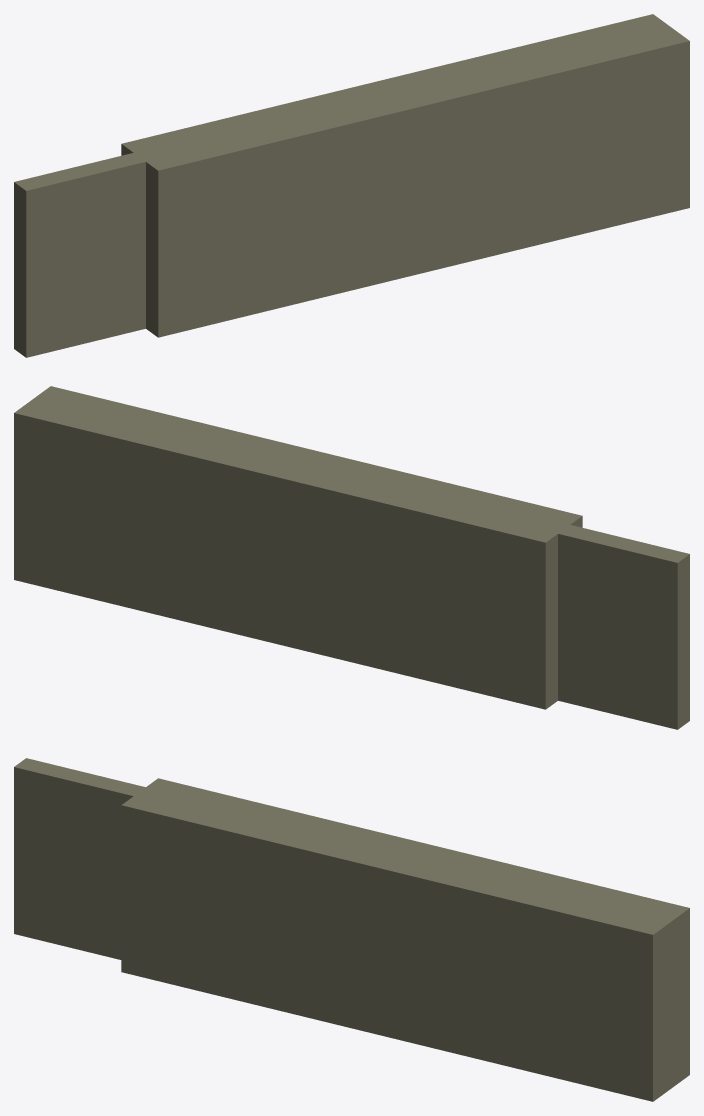
The model's file is lake-osman-shelf-4.glb.
3 renders of one model, top to bottom at view 1: azimuth 30°, elevation 25°; view 2: azimuth 150°, elevation 25°; view 3: azimuth 330°, elevation 25°, orthographic.
Visible parts, largest first — view 1: body, tail; view 2: body, tail; view 3: body, tail.
Boxes of the visible parts, x1=… form: body: x1=121, y1=14, x2=689, y2=337; tail: x1=14, y1=150, x2=158, y2=357; body: x1=14, y1=386, x2=582, y2=709; tail: x1=545, y1=521, x2=689, y2=729; body: x1=121, y1=778, x2=689, y2=1101; tail: x1=14, y1=758, x2=157, y2=959.
Size of the model in its own units: 0.4287 by 0.105 by 0.042.
